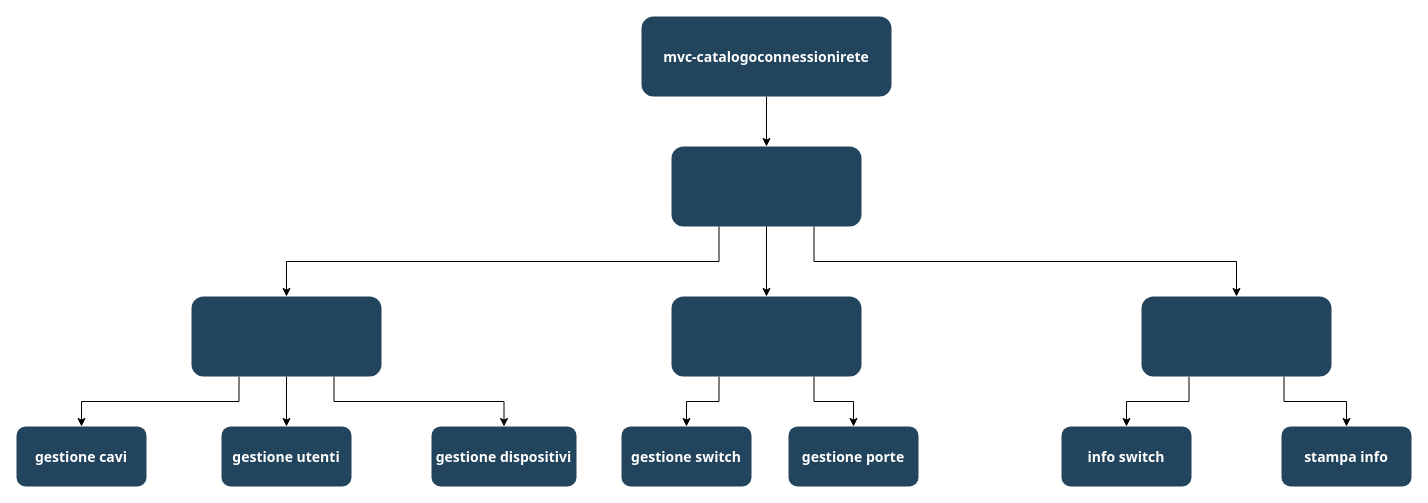
This 1428x503 diagram has some shape labels left out. Each missing label, with the centre of its shape:
"amministratore" goes at (x=286, y=336).
"login" goes at (x=766, y=186).
"operatore" goes at (x=766, y=336).
"viewer" goes at (x=1236, y=336).
